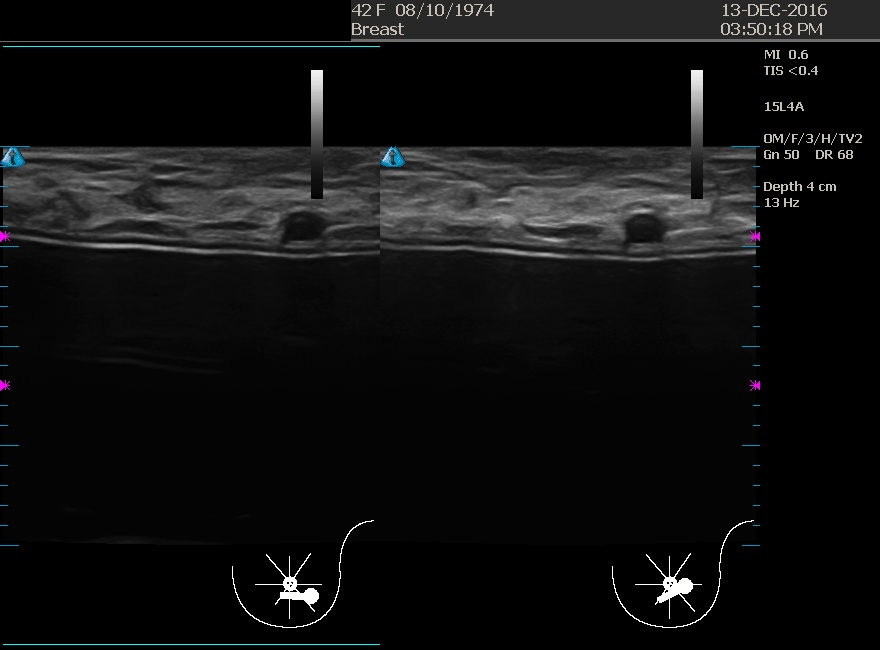BIRADS_2: (171, 204, 372, 404), (485, 156, 685, 357)
